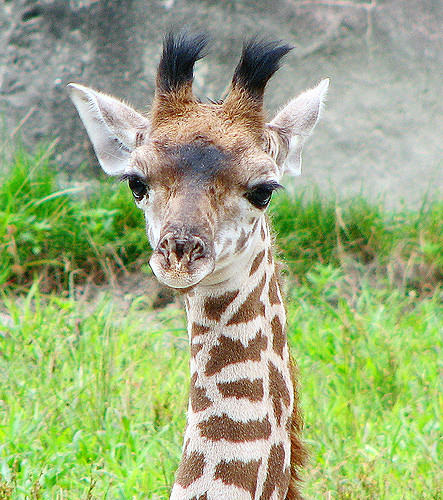giraffe: (59, 19, 352, 490)
